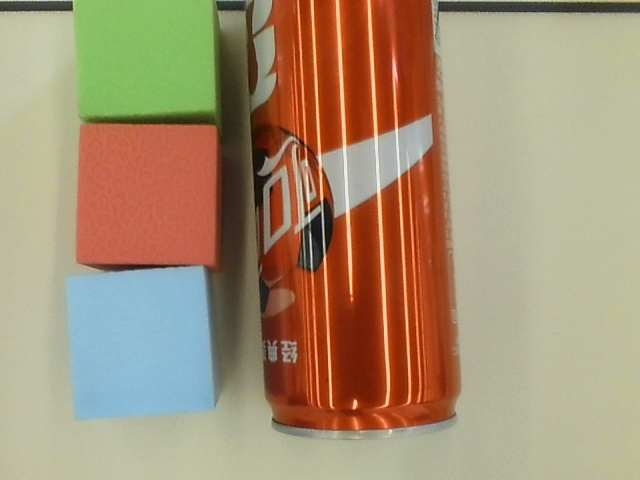bluecube: (44, 261, 242, 422)
cola: (232, 1, 472, 445)
greencube: (59, 1, 231, 141)
redcube: (62, 124, 244, 270)
